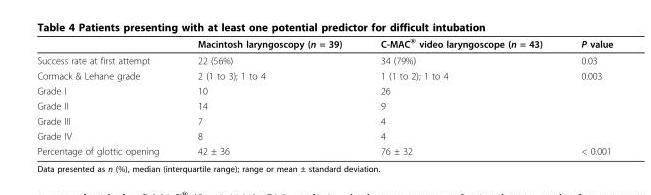table: (36, 36, 612, 156)
table column: (360, 36, 561, 156), (177, 36, 360, 156), (36, 36, 177, 156), (561, 36, 612, 156)
table column header: (36, 36, 612, 51)
table row: (36, 51, 612, 67), (36, 97, 612, 113), (36, 36, 612, 51), (36, 67, 612, 82), (36, 82, 612, 97), (36, 113, 612, 128), (36, 128, 612, 143), (36, 143, 612, 156)
